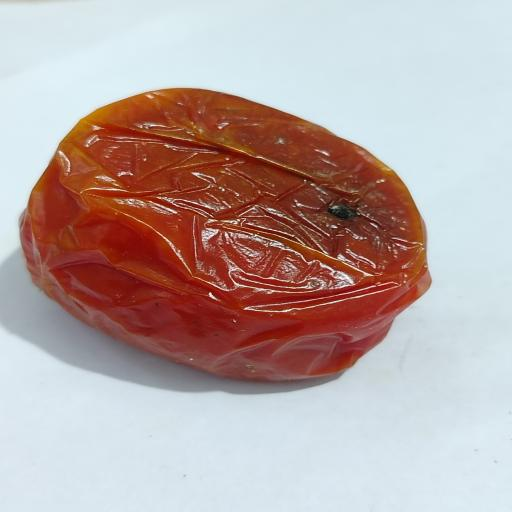spoiled: (22, 89, 430, 380)
